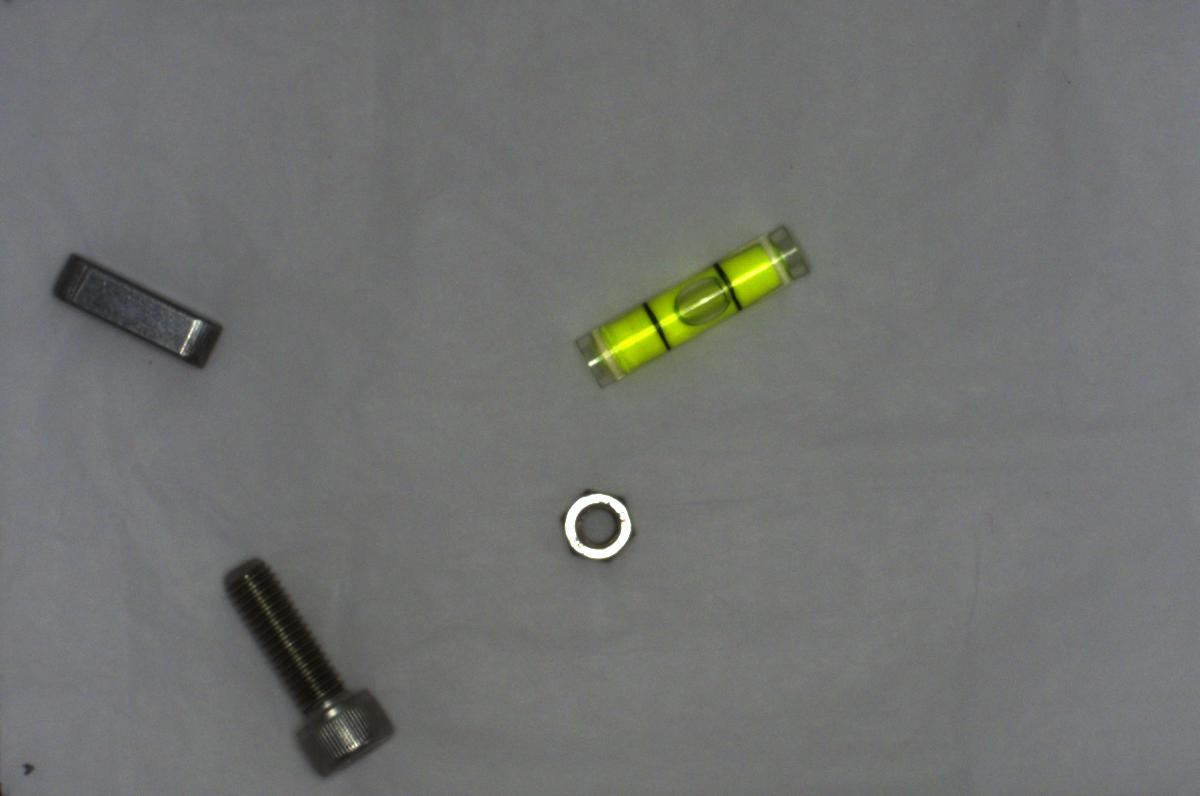Hexagon nut: (546, 480, 646, 568)
Hexagon screw: (219, 546, 401, 780)
Horizontal bubble: (560, 219, 822, 390)
Keybar: (48, 249, 224, 372)
